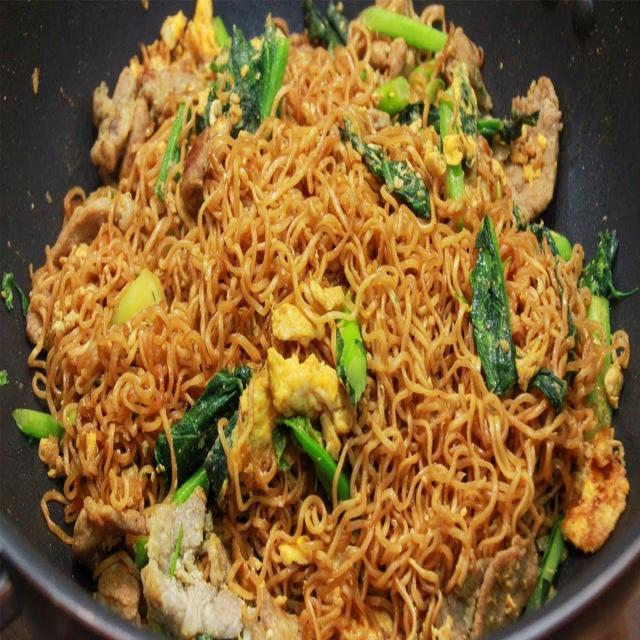carb: (96, 46, 565, 606)
meat: (504, 66, 557, 218), (572, 424, 617, 563), (106, 64, 158, 156), (184, 116, 214, 203)
stir-fried instant noodles: (32, 8, 621, 634)
vegetable: (159, 372, 233, 518), (472, 219, 516, 400), (226, 32, 279, 122), (440, 71, 466, 191)
